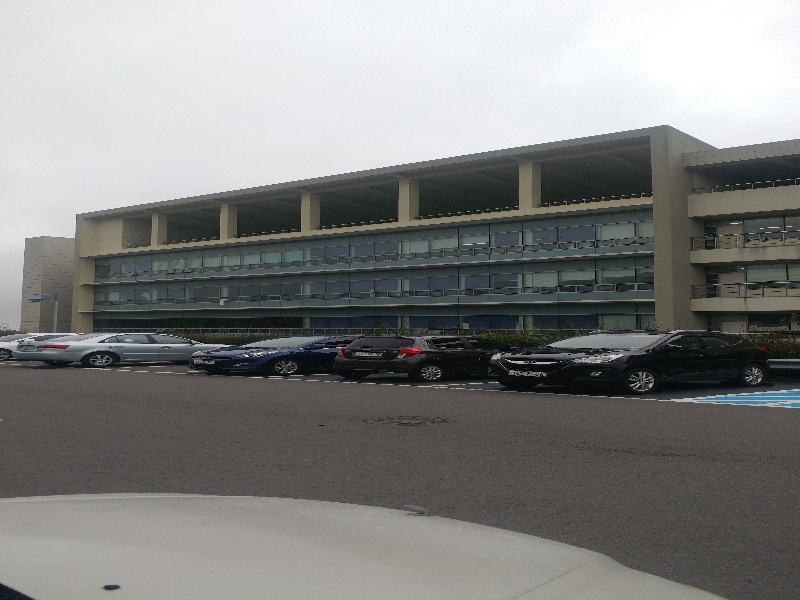Engineering College Building 4: (38, 123, 800, 329), (78, 206, 789, 323)
